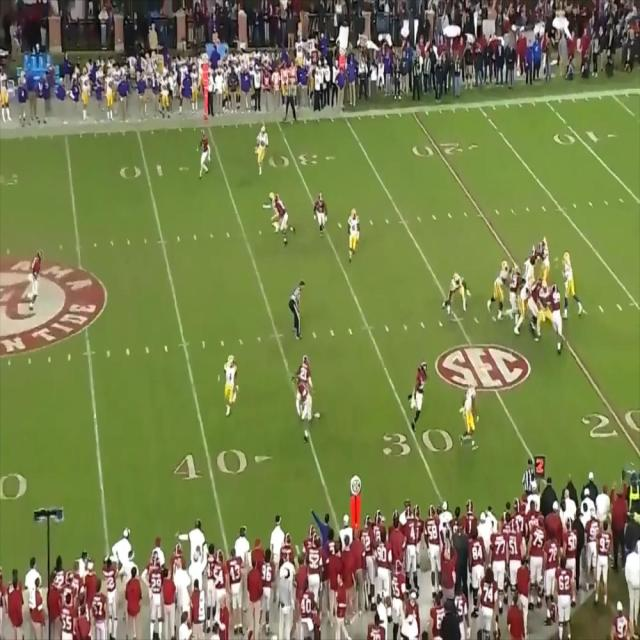db: (294, 374, 312, 444), (297, 356, 313, 431), (28, 252, 42, 309), (198, 130, 210, 176), (314, 193, 327, 235)
lb: (414, 368, 426, 429), (276, 192, 290, 242), (510, 269, 524, 315)
skill: (461, 382, 477, 441), (264, 190, 284, 235), (225, 354, 239, 414), (255, 123, 267, 174), (350, 211, 361, 262)
